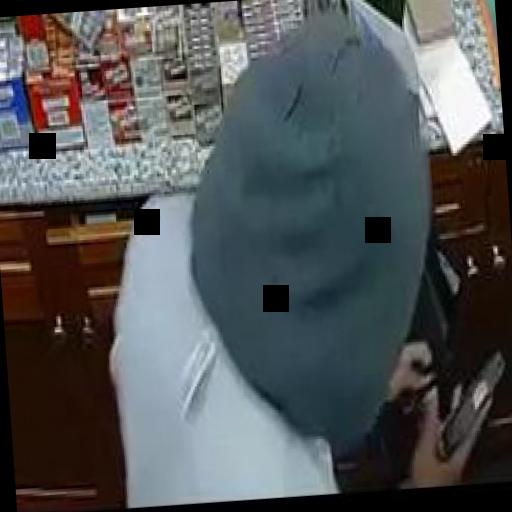Handgun: (424, 336, 512, 460)
